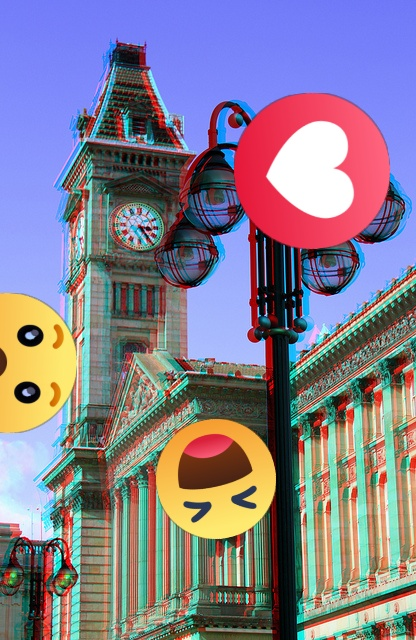haha: (156, 419, 276, 539)
love: (234, 93, 390, 249)
wow: (0, 293, 77, 433)
